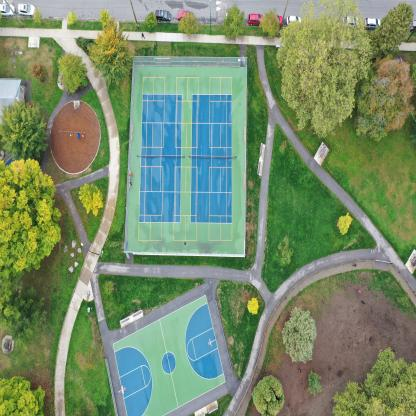Coniferous Tree: (354, 54, 413, 146), (0, 276, 46, 341), (367, 3, 414, 64), (0, 101, 47, 158), (89, 26, 132, 82), (284, 307, 315, 363), (255, 373, 284, 416), (56, 52, 86, 92), (261, 9, 278, 42), (277, 243, 294, 265), (30, 61, 48, 80), (310, 372, 322, 394), (145, 14, 157, 29)
Deciduous Tree: (280, 0, 367, 132), (0, 159, 59, 272), (339, 348, 416, 416), (2, 375, 45, 416), (79, 183, 104, 215), (336, 212, 353, 232), (247, 297, 261, 316)
